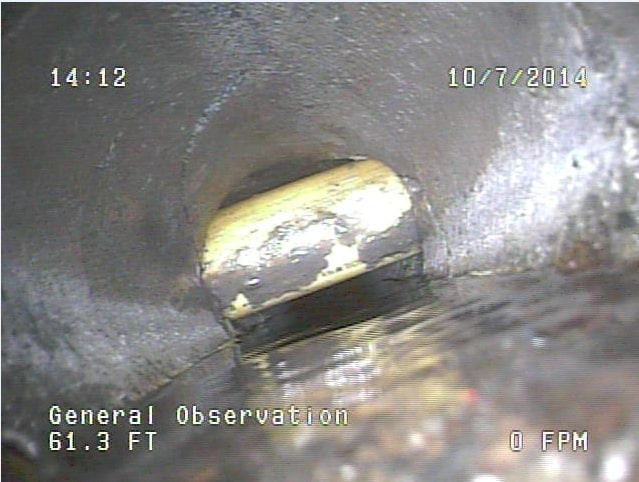cb: (125, 150, 491, 329)
